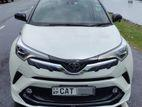car: (9, 0, 133, 107)
